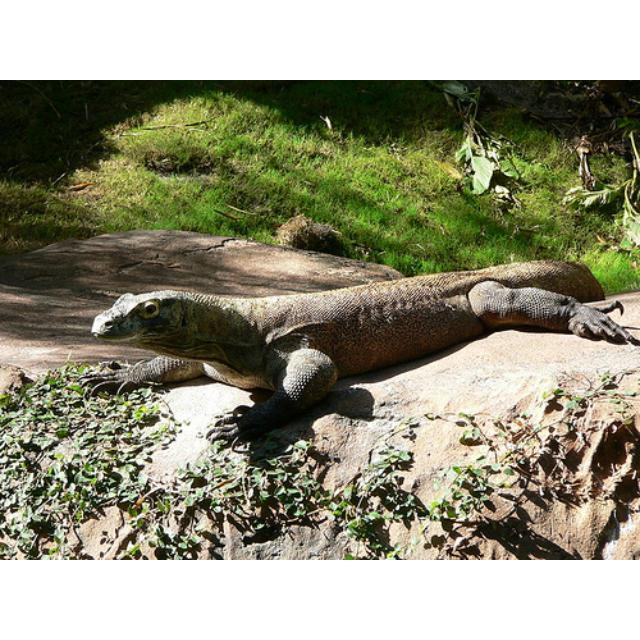KomodoDragon: (92, 260, 633, 445)
